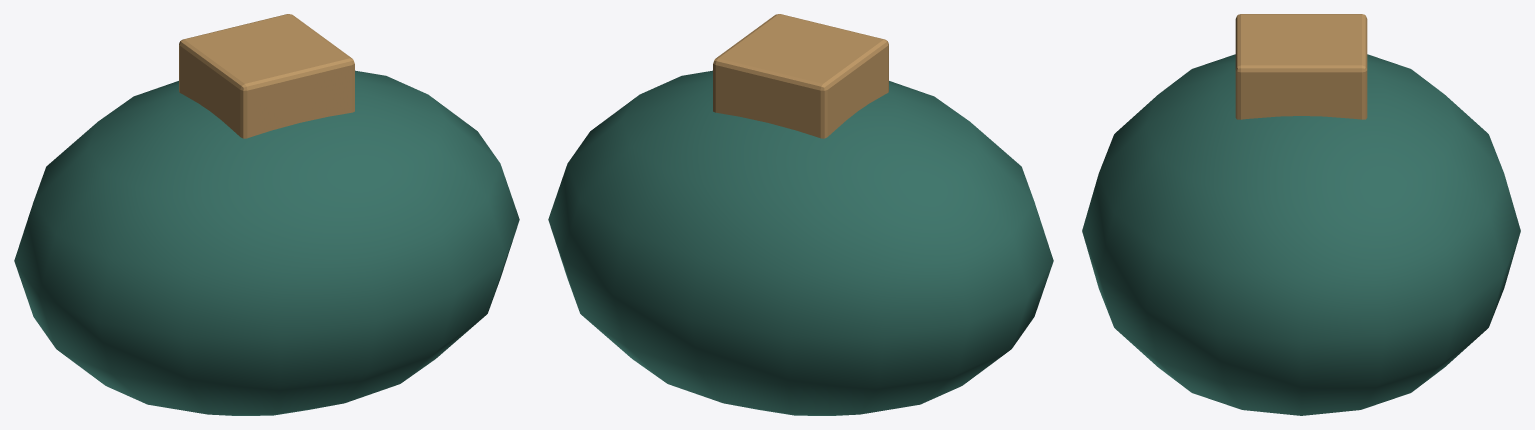
The model's file is SM_Keeper_Sobek_Tail5.fbx.
3 views of the same model, side by side, from view 1: azimuth 30°, elevation 25°; view 2: azimuth 150°, elevation 25°; view 3: azimuth 270°, elevation 25° (orthographic).
Parts seen in each view (by area): view 1: SM_Keeper_Sobek_Tail5; view 2: SM_Keeper_Sobek_Tail5; view 3: SM_Keeper_Sobek_Tail5.
Boxes of the visible parts, x1,y1,x2,y2 form: SM_Keeper_Sobek_Tail5: (14, 14, 519, 415); SM_Keeper_Sobek_Tail5: (548, 14, 1053, 415); SM_Keeper_Sobek_Tail5: (1082, 14, 1520, 415).
Bounding box in the file's own units: 4 × 2.86 × 3.33.
